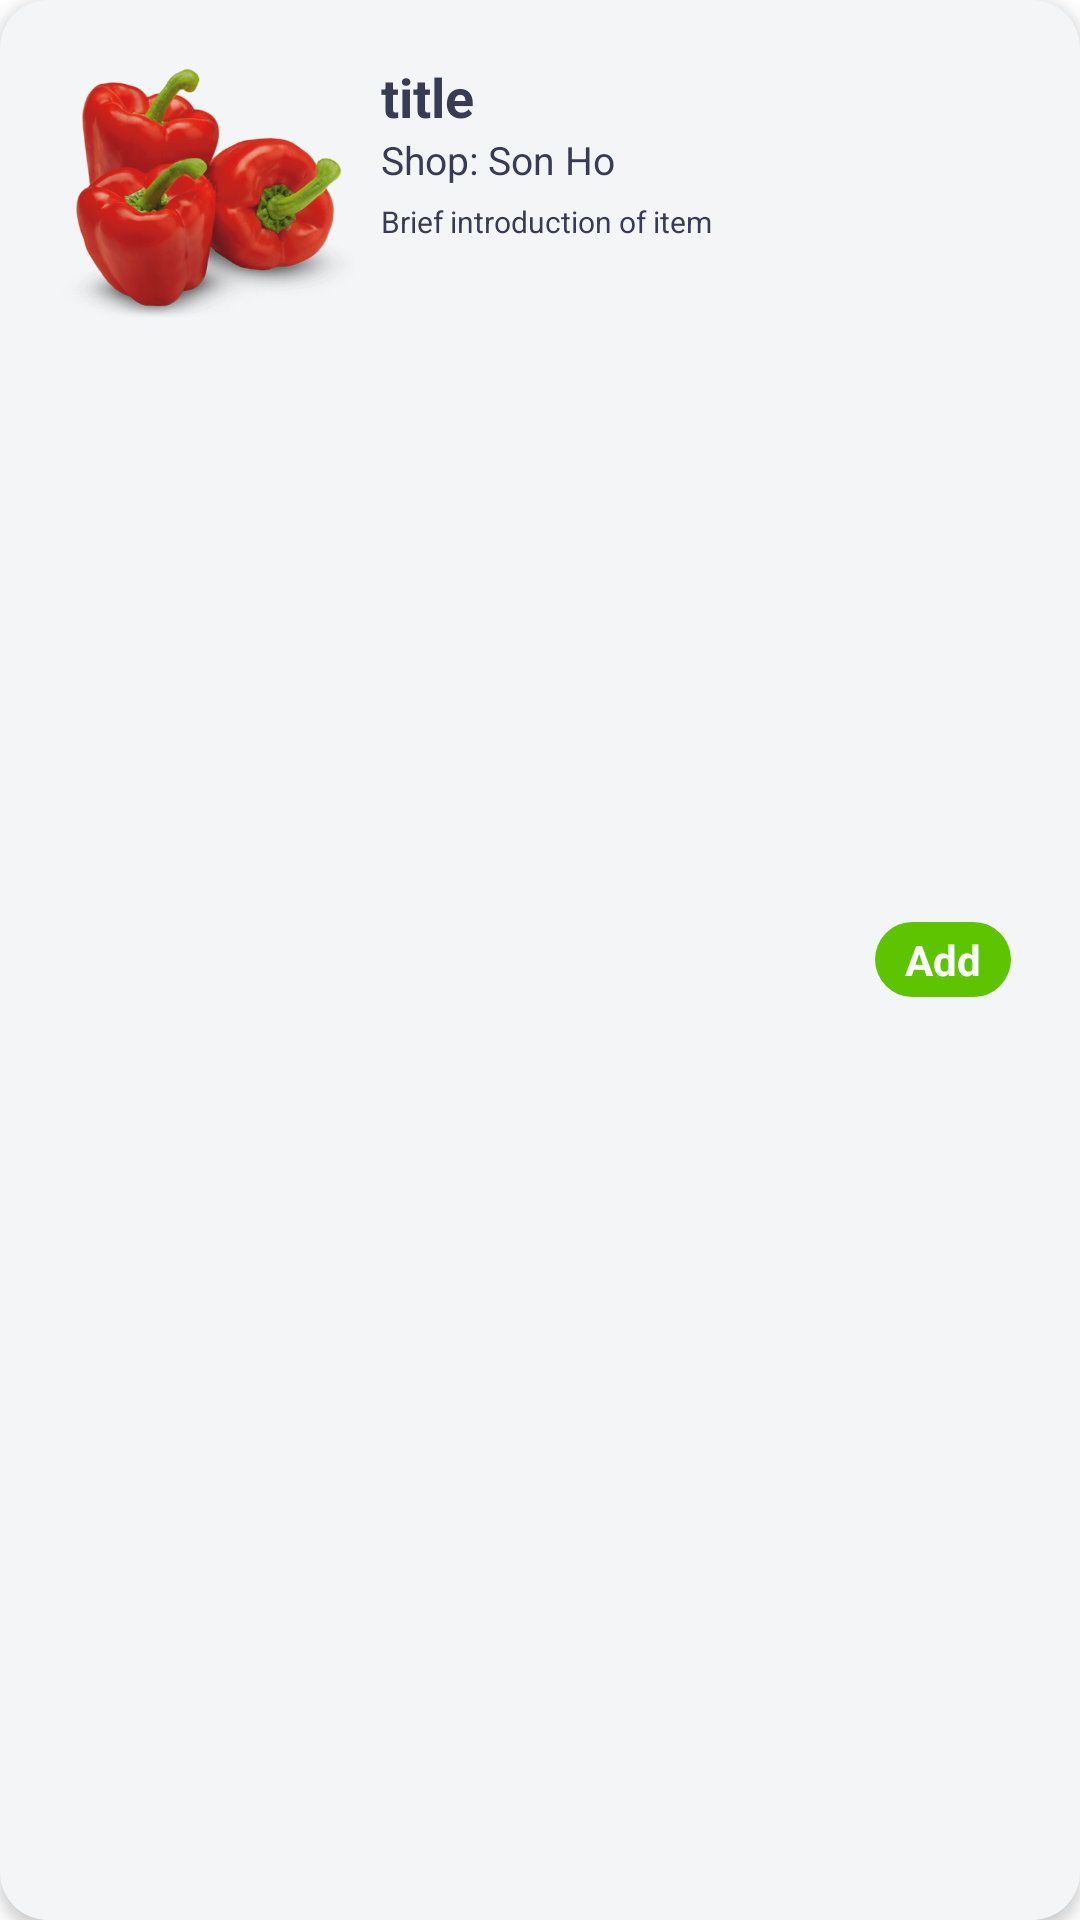

Named icons in this screenshot (1080px×1920px) and their bounding boxes, [x1, y1, x2, y2]:
pepper: [76, 69, 341, 314]
